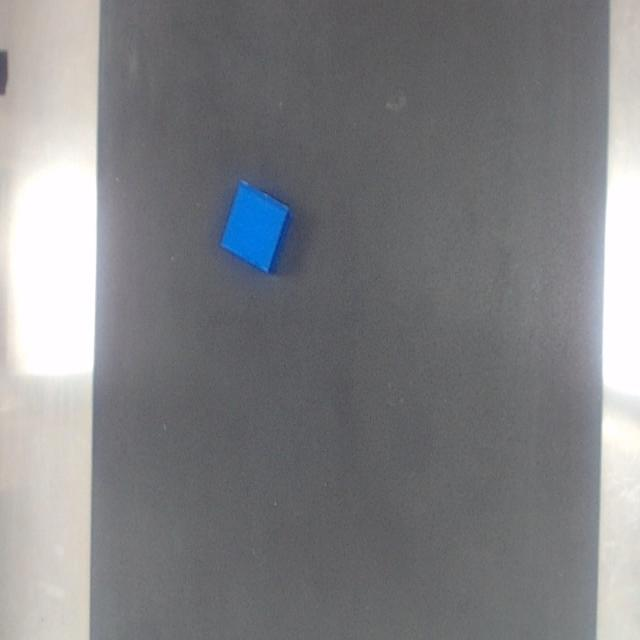Azul: (221, 181, 290, 272)
